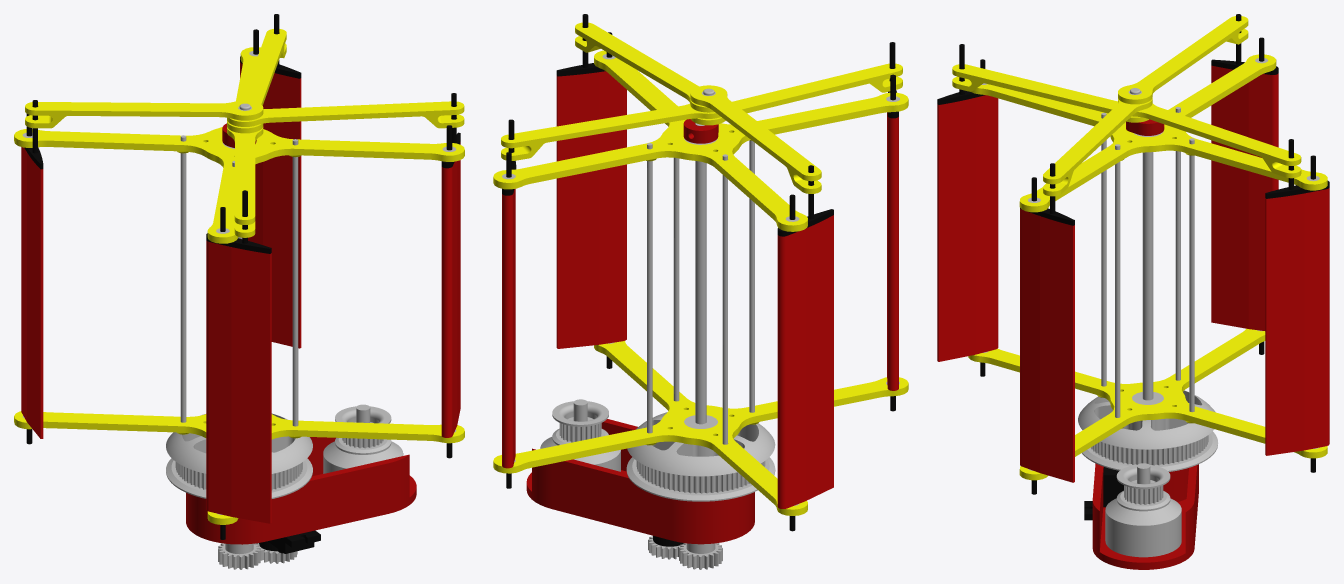
3 views of the same model, side by side, from view 1: azimuth 30°, elevation 25°; view 2: azimuth 150°, elevation 25°; view 3: azimuth 270°, elevation 25° (orthographic). The views are drawn at different scales.
Parts seen in each view (by area): view 1: Solid1 (×18); view 2: Solid1 (×21); view 3: Solid1 (×21).
Boxes of the visible parts, x1,y1,x2,y2 form: Solid1 (×18): (14, 29, 464, 569); Solid1 (×21): (493, 22, 908, 569); Solid1 (×21): (937, 16, 1329, 569).
Bounding box in the file's own units: 0.1429 × 0.182 × 0.1466.
